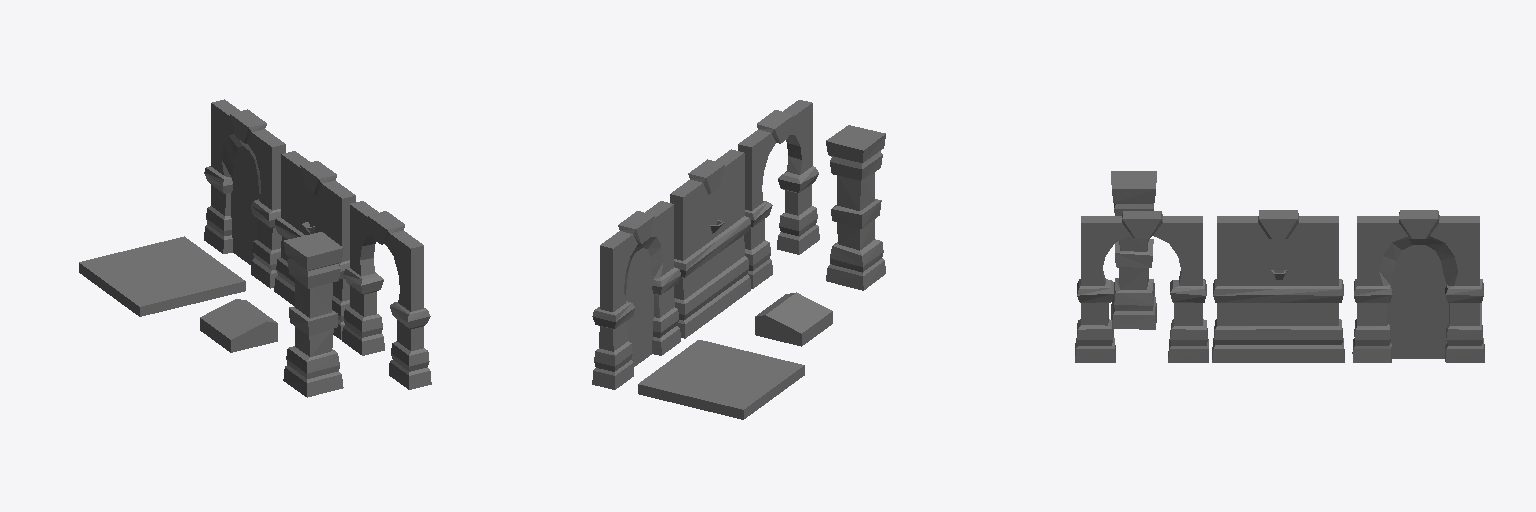
The model's file is LOW_Group_BatSlime_01.obj.
3 renders of one model, left to right at view 1: azimuth 30°, elevation 25°; view 2: azimuth 150°, elevation 25°; view 3: azimuth 270°, elevation 25°, orthographic.
Visible parts, largest first — view 1: Group_low:MurOrne1, Group_low:ouverture1, Group_low:Dalle1, Group_low:Pillier_03, Group_low:MurSimple1, Group_low:parapet1; view 2: Group_low:MurOrne1, Group_low:MurSimple1, Group_low:ouverture1, Group_low:Dalle1, Group_low:Pillier_03, Group_low:parapet1; view 3: Group_low:MurSimple1, Group_low:MurOrne1, Group_low:ouverture1, Group_low:Pillier_03.
Part boxes in pixels (x1,y1,x2,y2): Group_low:MurOrne1: (204,99,285,288); Group_low:ouverture1: (342,201,431,389); Group_low:Dalle1: (79,236,245,316); Group_low:Pillier_03: (283,232,343,397); Group_low:MurSimple1: (274,151,355,339); Group_low:parapet1: (200,299,277,352); Group_low:MurOrne1: (592,201,680,389); Group_low:MurSimple1: (670,149,750,338); Group_low:ouverture1: (738,100,819,288); Group_low:Dalle1: (638,340,804,419); Group_low:Pillier_03: (826,125,885,290); Group_low:parapet1: (755,292,832,346); Group_low:MurSimple1: (1212,210,1344,362); Group_low:MurOrne1: (1352,210,1484,362); Group_low:ouverture1: (1075,211,1208,362); Group_low:Pillier_03: (1111,171,1156,329).
Size of the model in its own units: 11.56 by 10.34 by 26.86.